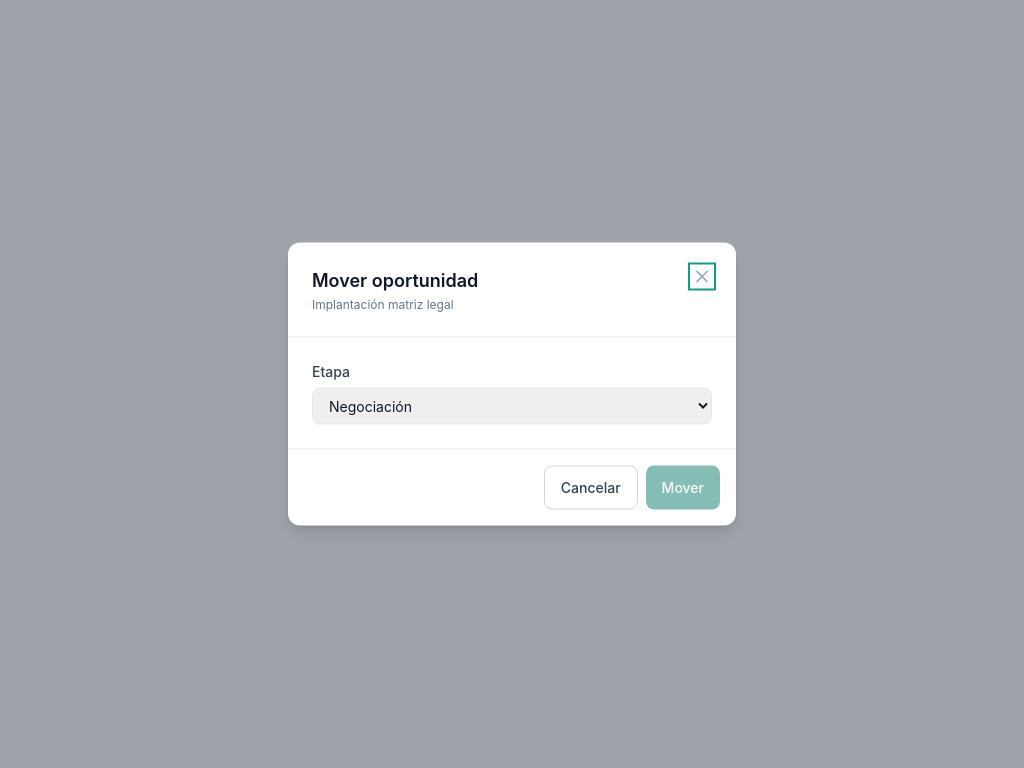
cuando el servidor rechaza › el error se queda en el formulario y no cierra el modal
Select "Ganado" in the dropdown labelled "Etapa" at (512,406), box [312,388,712,424]
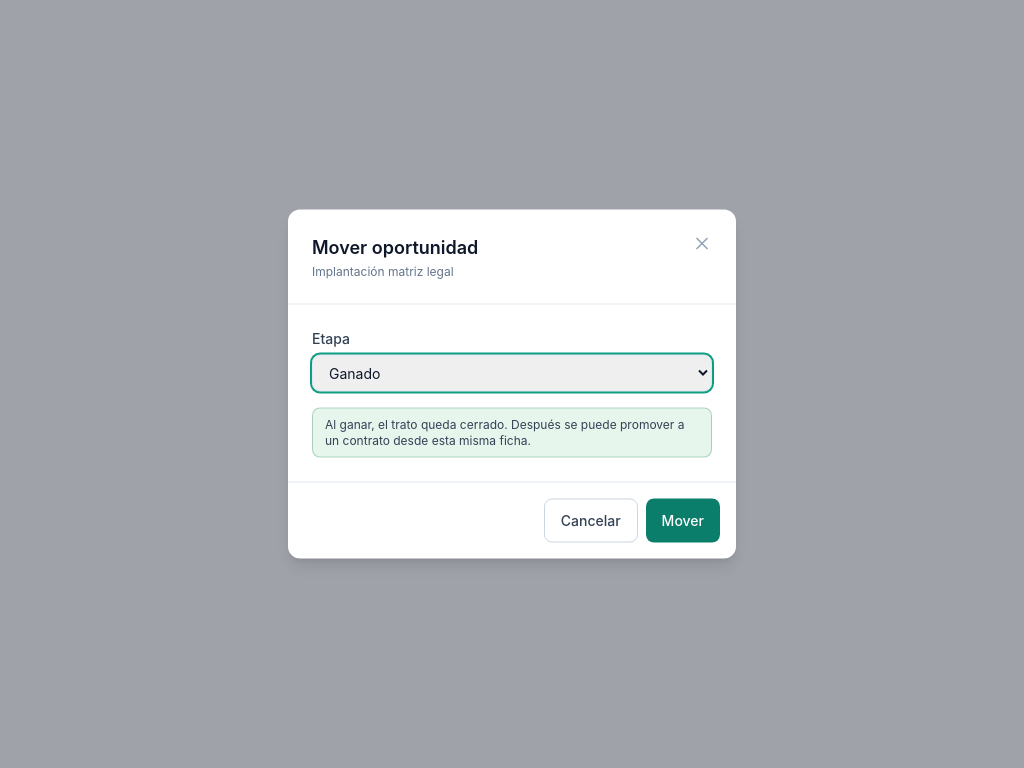
Click the button "Mover".
click(683, 520)  # box [646,498,720,542]
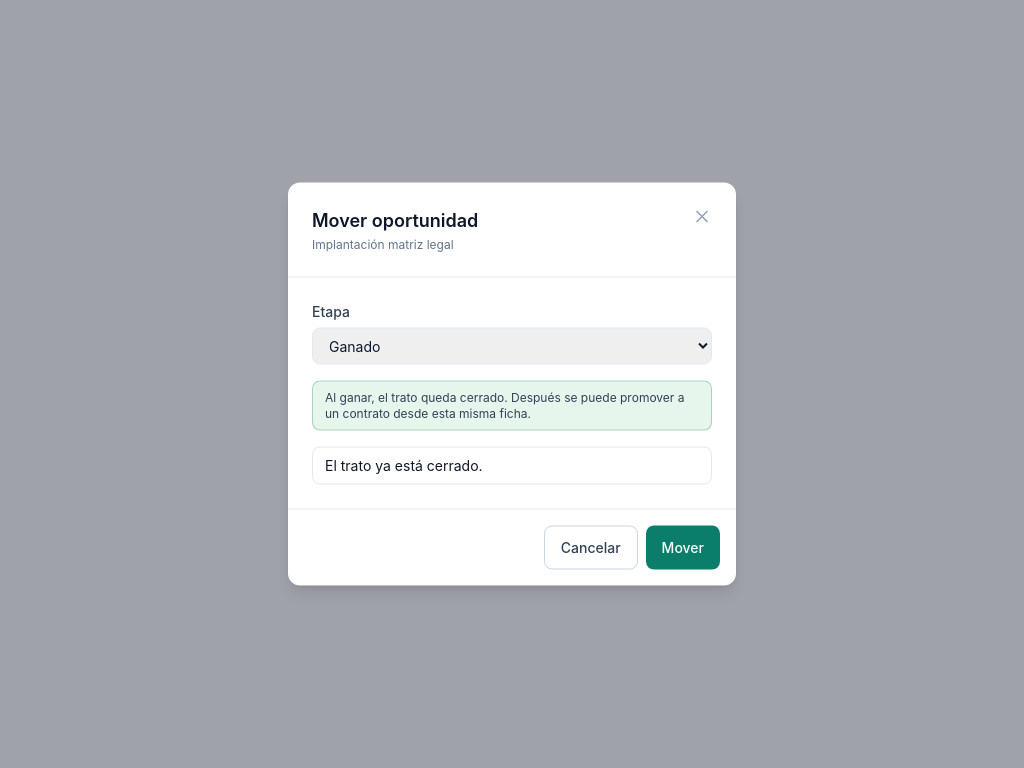
Now the message reads "El trato ya está cerrado.", box [325,456,483,474]
